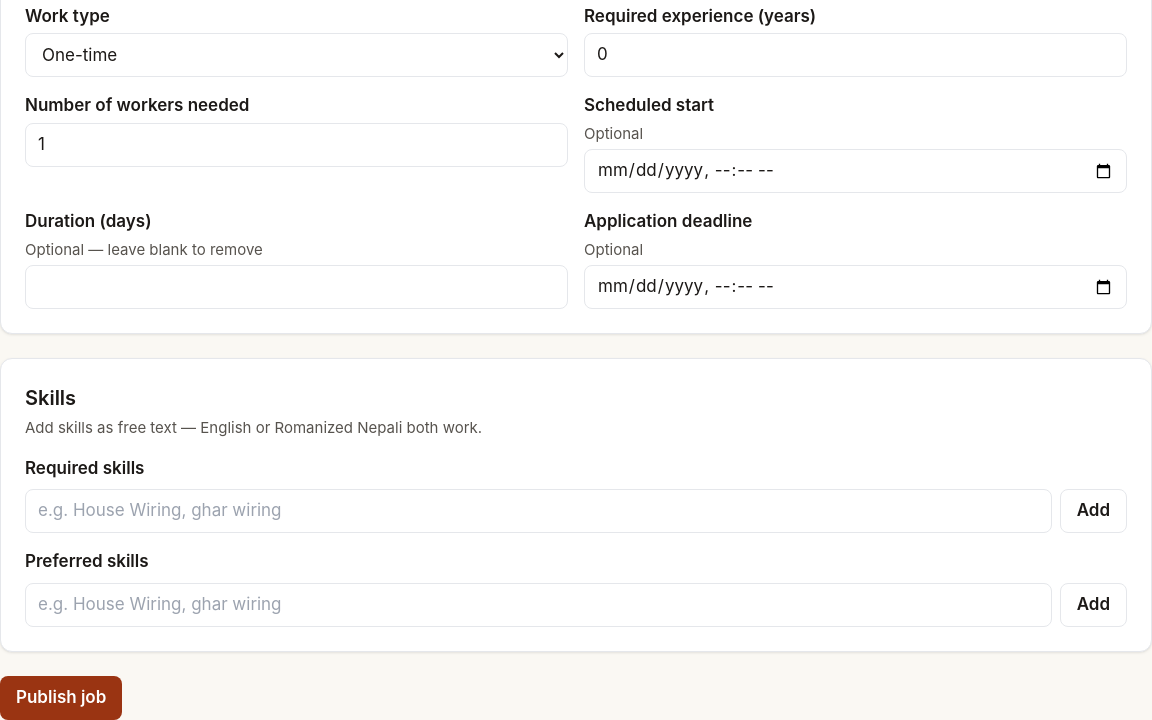
Test: JobForm › create mode › requires Title, Description, Category, Subcategory, Address, Latitude, Longitude, and Wage amount
(page scrolled)
Step 1. Click the button "Publish job" → point(61, 698), box [0,676,122,719]
(page scrolled)
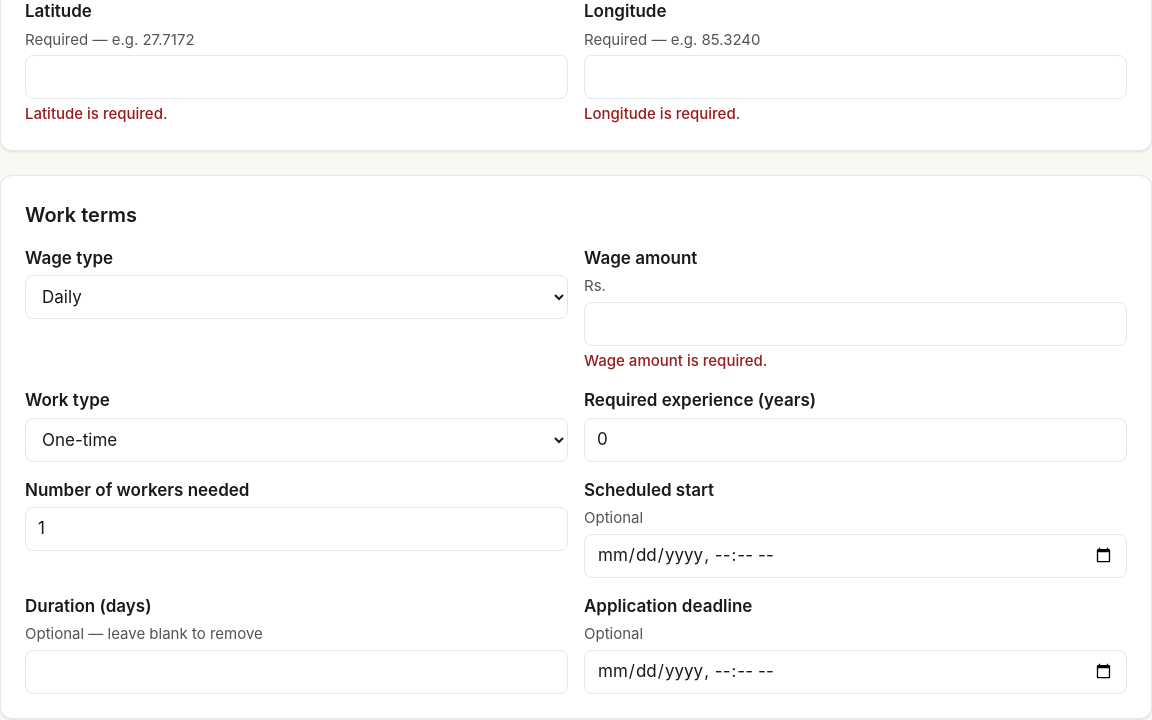
Check: the text "Latitude is required." is shown, box [25,104,168,123]
Check: the text "Longitude is required." is shown, box [584,104,740,123]
Check: the text "Wage amount is required." is shown, box [584,350,767,370]
